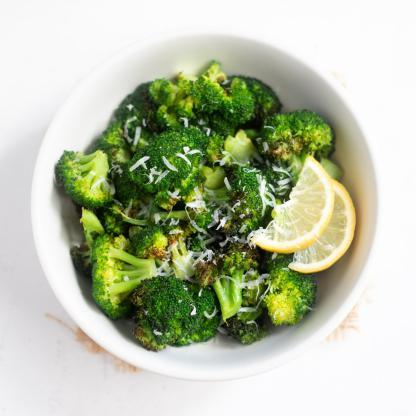broccoli: (54, 60, 352, 352)
